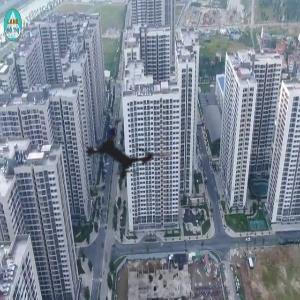drone: (51, 81, 195, 225)
